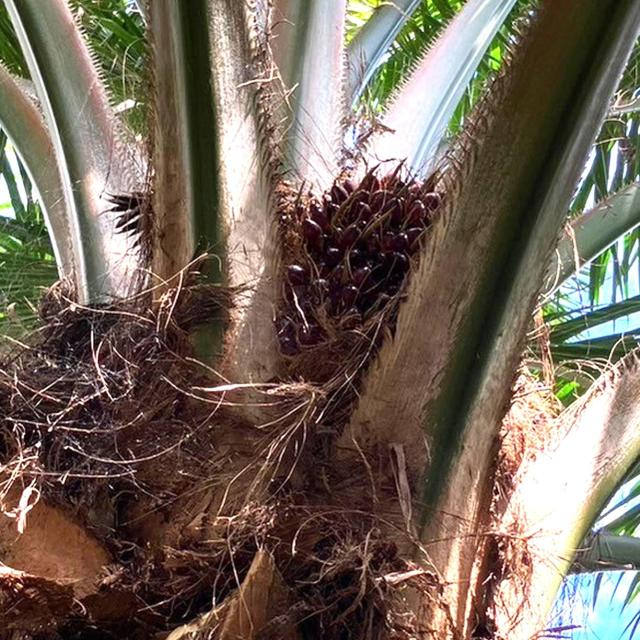ripe: (276, 172, 442, 374)
